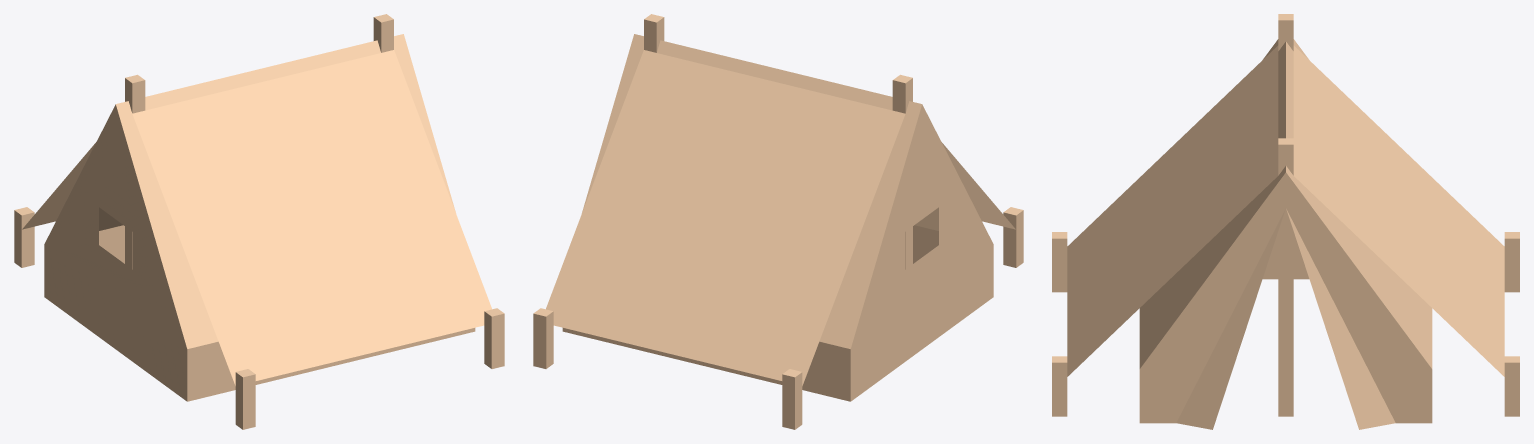
Rendered from tent_detailedOpen.fbx.
3 views of the same model, side by side, from view 1: azimuth 30°, elevation 25°; view 2: azimuth 150°, elevation 25°; view 3: azimuth 270°, elevation 25° (orthographic). The views are drawn at different scales.
Visible parts, largest first — view 1: tent_detailedOpen; view 2: tent_detailedOpen; view 3: tent_detailedOpen.
Boxes of the visible parts, x1,y1,x2,y2 form: tent_detailedOpen: [14, 14, 504, 429]; tent_detailedOpen: [533, 14, 1023, 429]; tent_detailedOpen: [1052, 14, 1519, 429].
Size of the model in its own units: 200 by 168 by 262.
